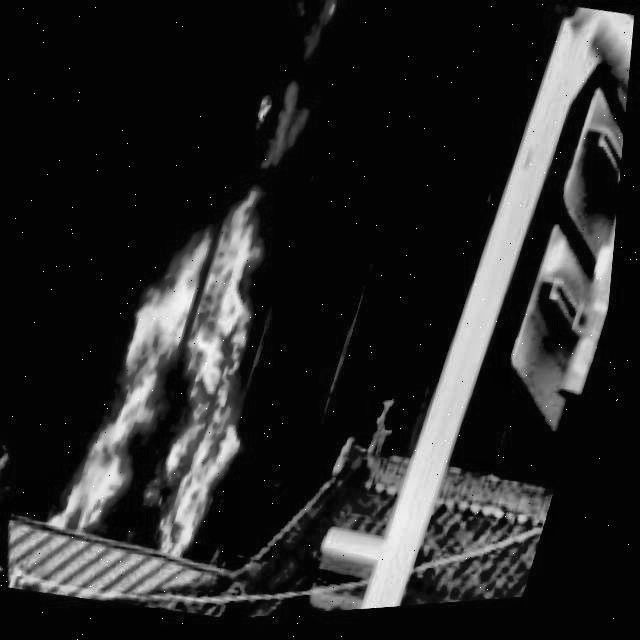Fire: (57, 167, 323, 574)
